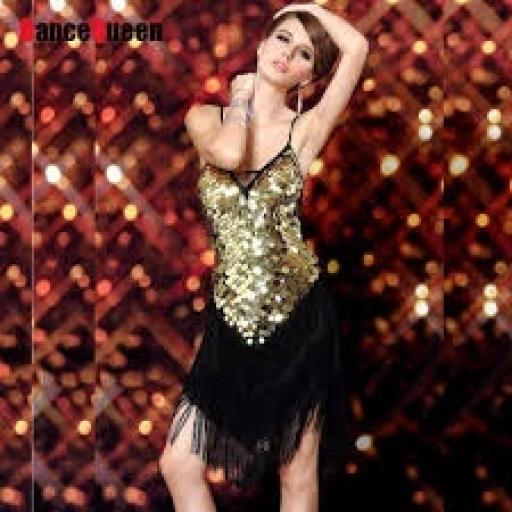dancing: (155, 0, 373, 510)
